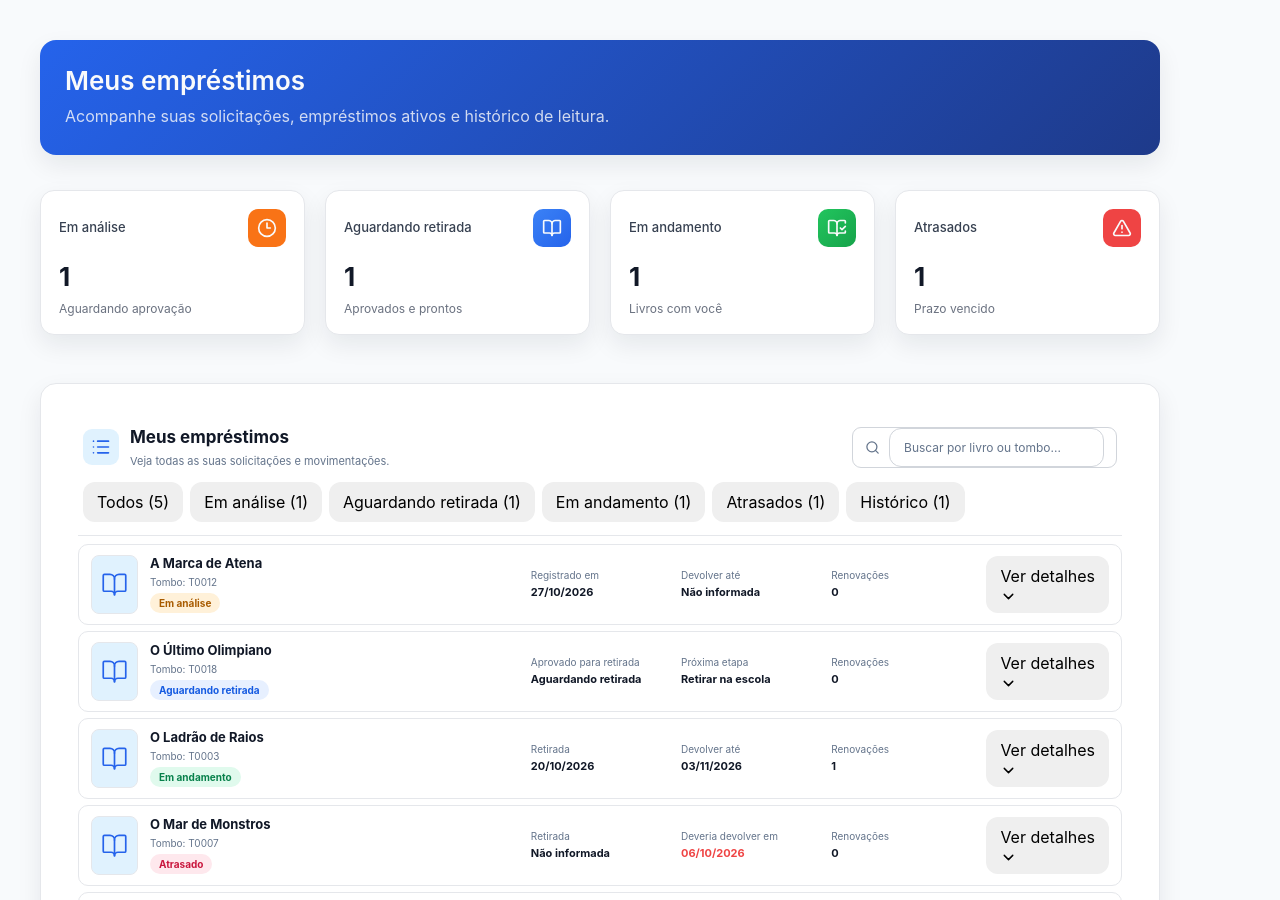
Test case: mostra histórico e estado vazio com link de exploração
Expected: the text "O Ladrão de Raios" is shown, [150,729,264,746]
Click the button "Histórico (1)".
click(906, 502)  # box [846,482,965,522]
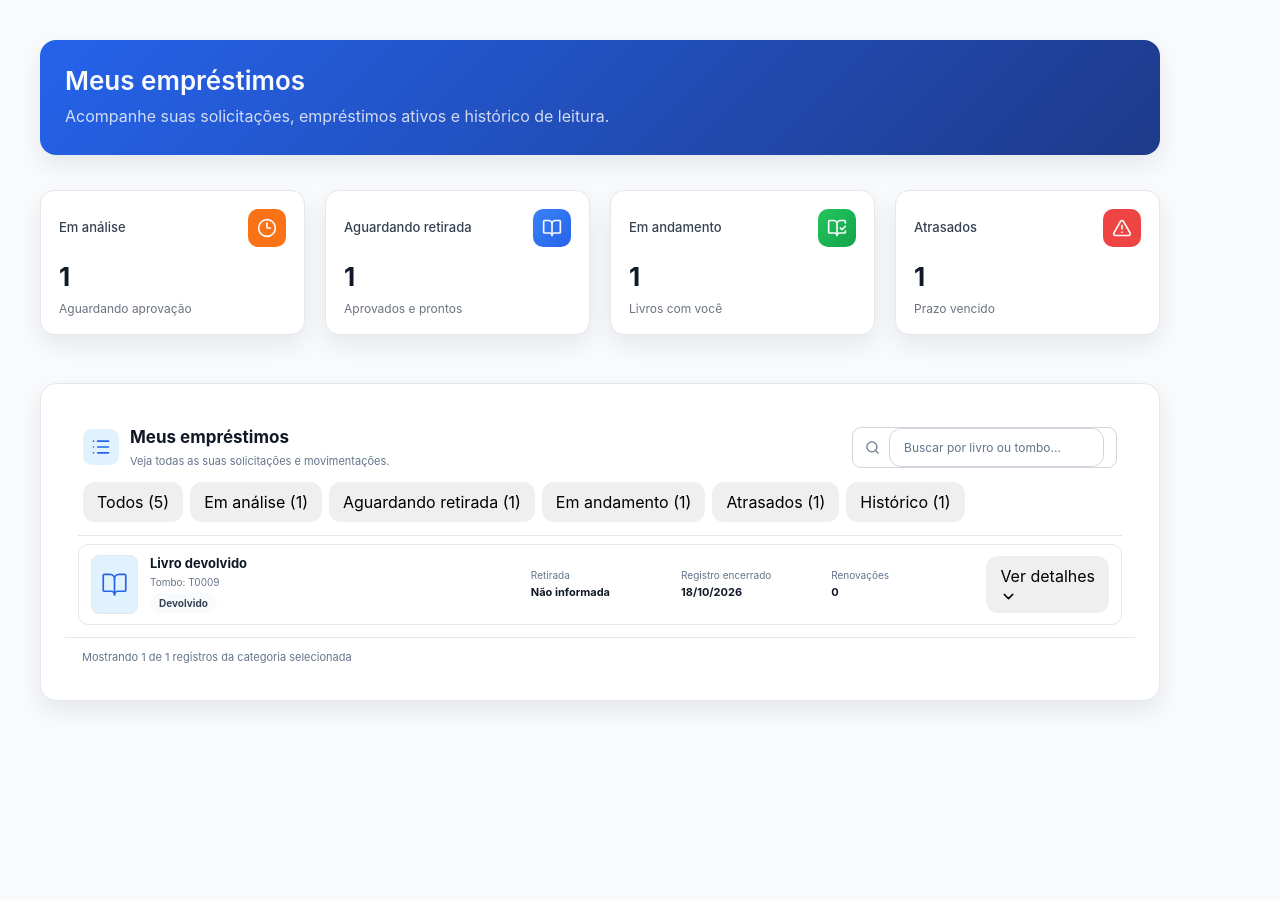
Expected: the text "Livro devolvido" is shown, [150,555,247,572]
Click the button "Em análise (1)".
click(256, 502)  # box [190,482,322,522]
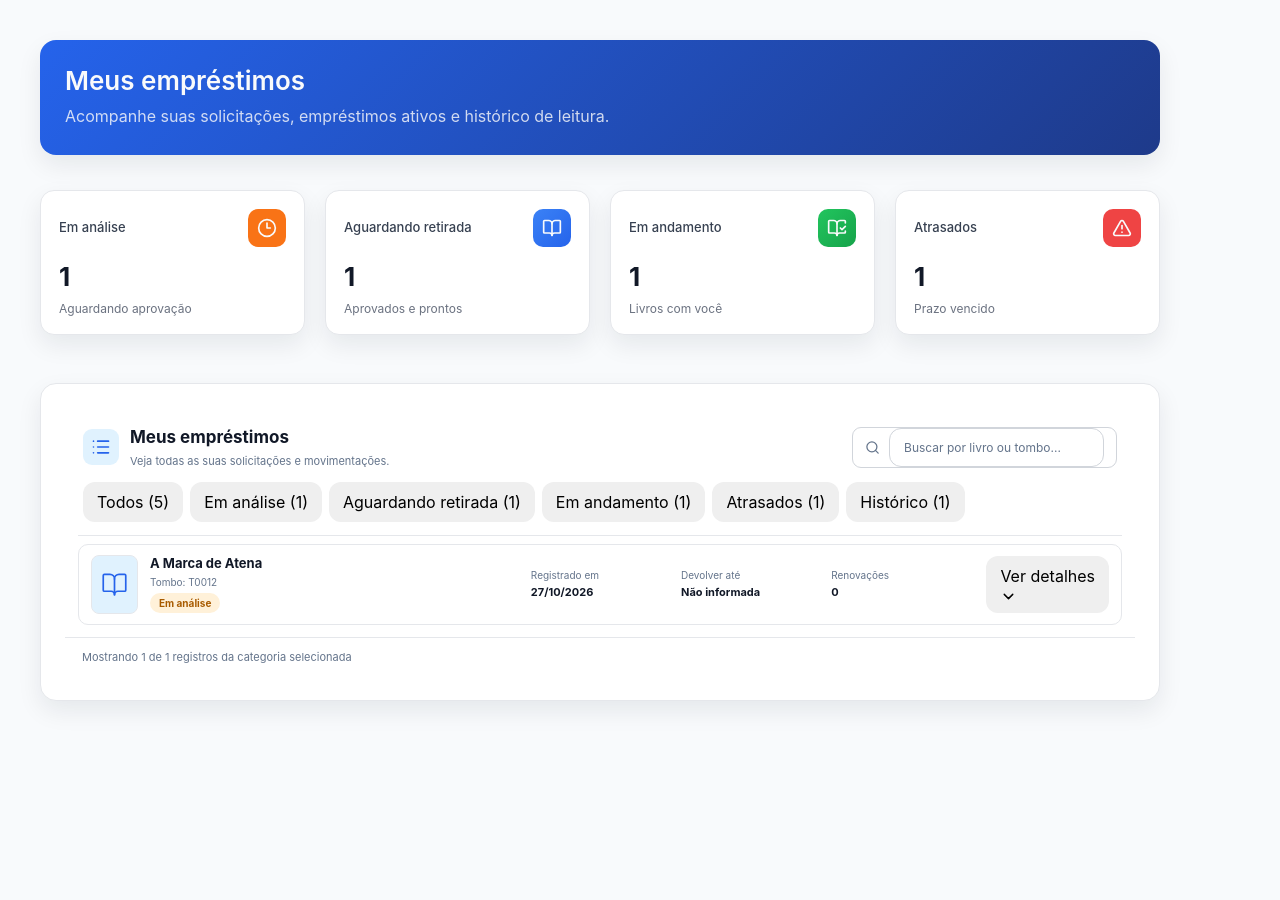
Type "inexistente" into the search field named "Buscar empréstimos".
click(996, 447); type("inexistente")  # box [889,428,1104,467]
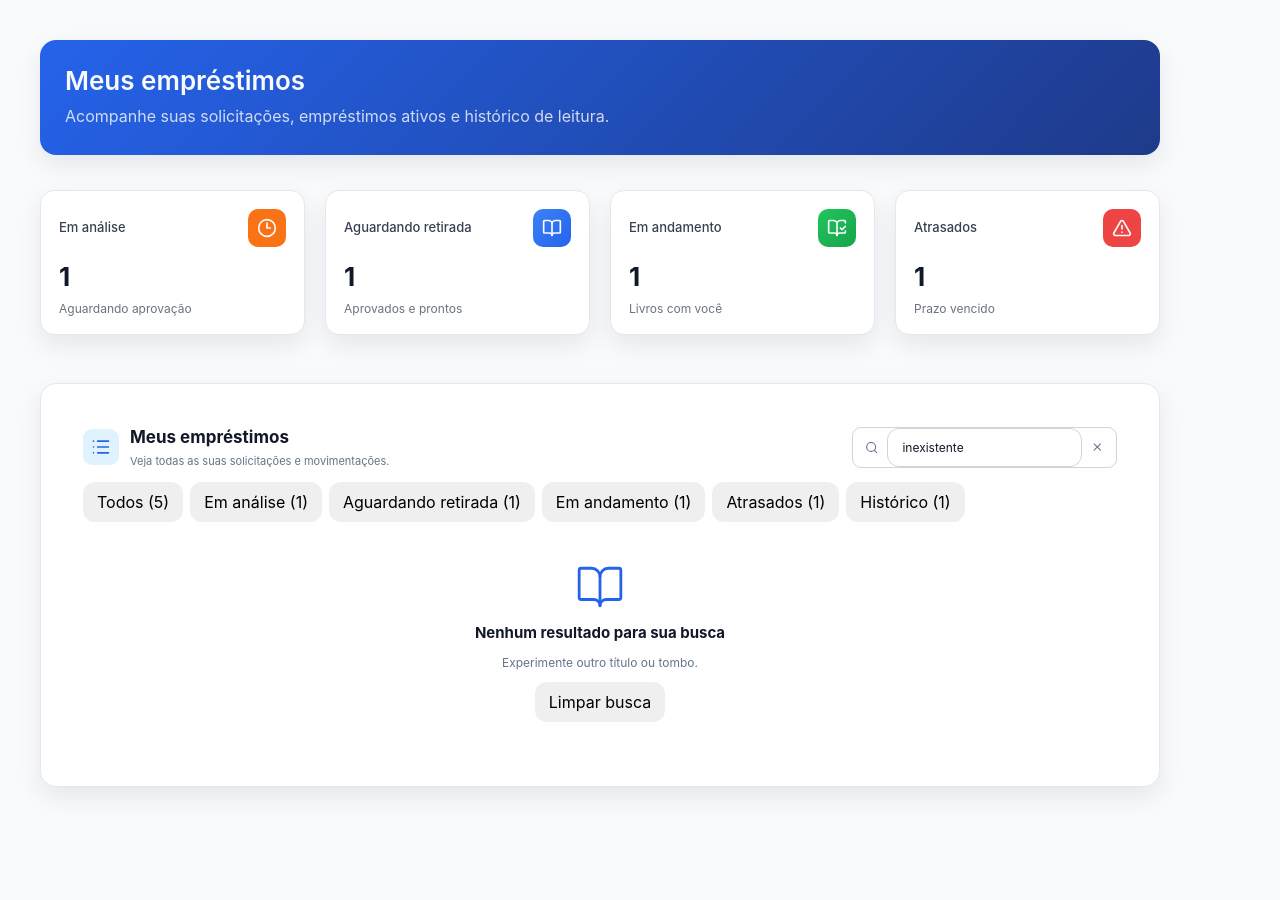
Result: the heading "Nenhum resultado para sua busca" is shown at [475,622,725,644]
Click the button "Limpar busca".
click(600, 702)  # box [535,682,665,722]
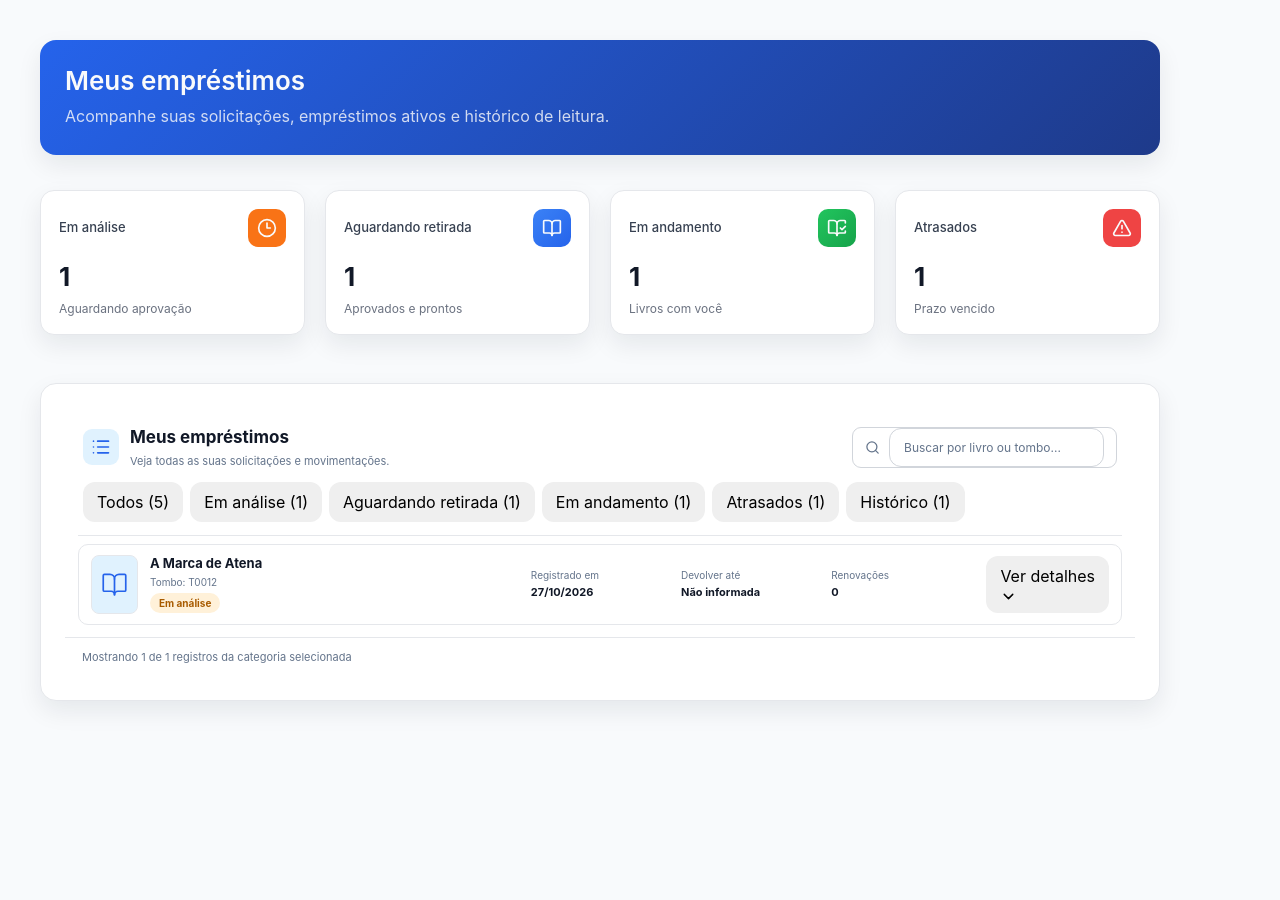
Result: the text "A Marca de Atena" is shown at [150,555,262,572]
